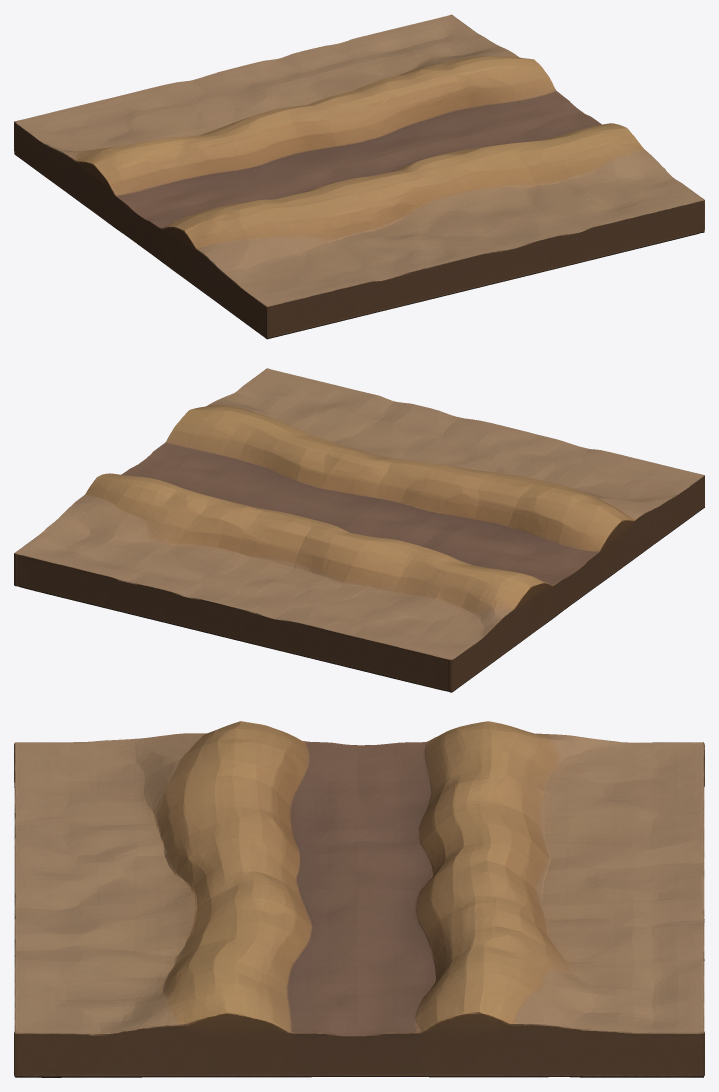
3 renders of one model, top to bottom at view 1: azimuth 30°, elevation 25°; view 2: azimuth 150°, elevation 25°; view 3: azimuth 270°, elevation 25°, orthographic. The views are drawn at different scales.
Visible parts, largest first — view 1: world; view 2: world; view 3: world.
Part boxes in pixels (x1,y1,x2,y2): world: (14,14,704,339); world: (14,368,704,692); world: (14,721,704,1077).
Bounding box in the file's own units: 1 × 0.1277 × 1.
Materials: 1 (1 with a texture image).
